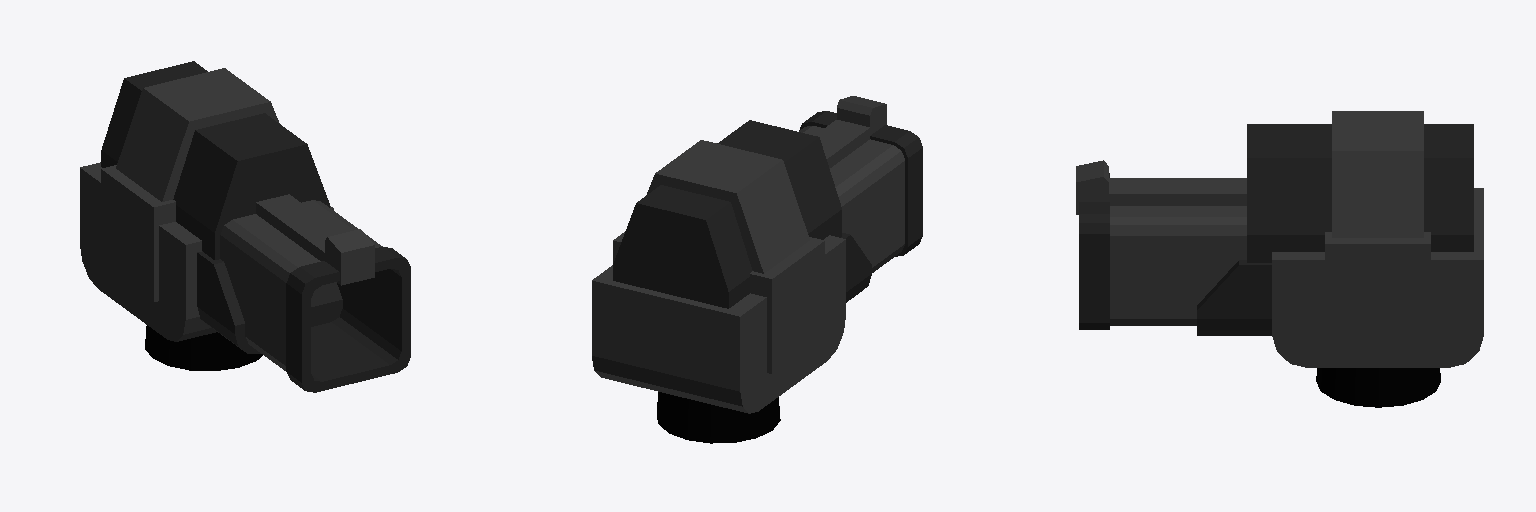
The model's file is Turret_Cannon_Top_Cylinder_003.obj.
3 renders of one model, left to right at view 1: azimuth 30°, elevation 25°; view 2: azimuth 150°, elevation 25°; view 3: azimuth 270°, elevation 25°, orthographic.
Parts seen in each view (by area): view 1: Turret_Cannon_Top_Cylinder.003; view 2: Turret_Cannon_Top_Cylinder.003; view 3: Turret_Cannon_Top_Cylinder.003.
Boxes of the visible parts, x1,y1,x2,y2 form: Turret_Cannon_Top_Cylinder.003: [80, 61, 410, 392]; Turret_Cannon_Top_Cylinder.003: [592, 96, 922, 443]; Turret_Cannon_Top_Cylinder.003: [1076, 111, 1483, 407].
Bounding box in the file's own units: 0.323 × 0.4855 × 0.7165.